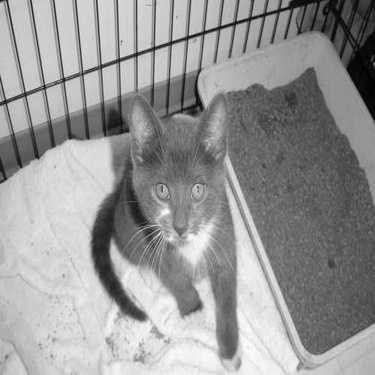cat: (89, 92, 243, 373)
